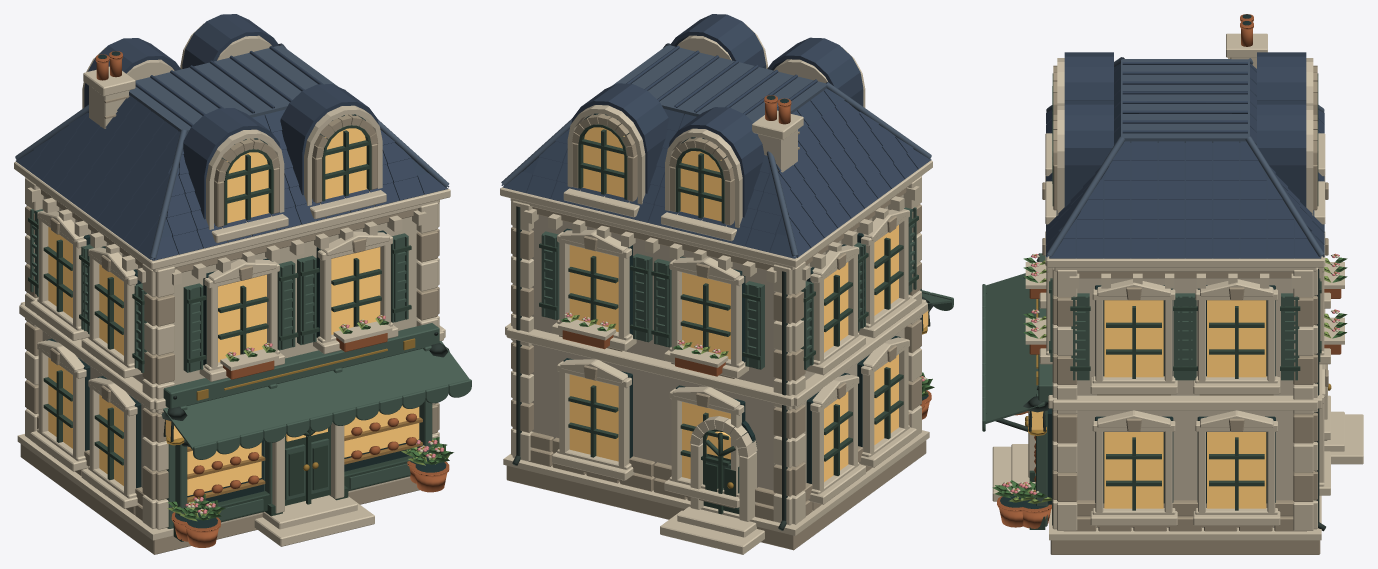
3 renders of one model, left to right at view 1: azimuth 30°, elevation 25°; view 2: azimuth 150°, elevation 25°; view 3: azimuth 270°, elevation 25°, orthographic.
Parts seen in each view (by area): view 1: classic_shop_2_geometry; view 2: classic_shop_2_geometry; view 3: classic_shop_2_geometry.
Part boxes in pixels (x1,y1,x2,y2): classic_shop_2_geometry: (14,14,471,554); classic_shop_2_geometry: (500,14,953,554); classic_shop_2_geometry: (982,14,1363,554).
Bounding box in the file's own units: 0.9057 × 1.16 × 0.957.
